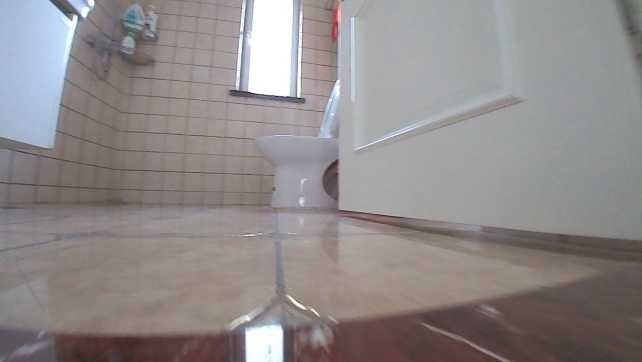door_anno: (335, 0, 637, 241)
toilet: (254, 78, 340, 209)
